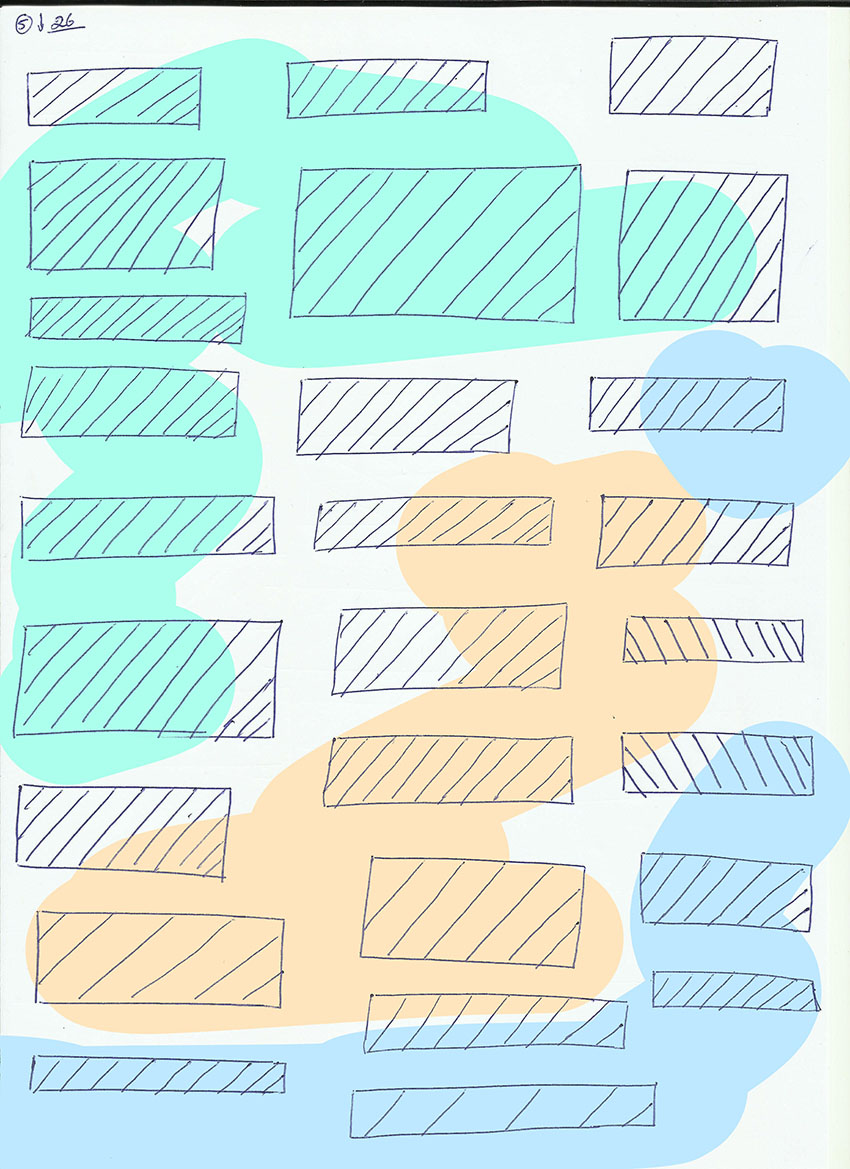frame: (287, 163, 586, 329), (10, 618, 287, 744), (31, 902, 287, 1013), (354, 852, 588, 973), (616, 165, 786, 328), (25, 155, 227, 277), (11, 778, 236, 886), (327, 599, 570, 694), (348, 1079, 663, 1144), (318, 731, 579, 809), (294, 372, 520, 459), (17, 491, 281, 562), (360, 990, 631, 1056), (18, 362, 242, 441), (594, 488, 798, 573), (635, 846, 817, 938), (604, 33, 781, 121), (617, 727, 818, 803), (312, 493, 557, 553), (283, 55, 491, 123), (585, 371, 789, 437), (25, 290, 250, 349), (26, 1050, 289, 1099), (23, 63, 207, 130), (616, 611, 808, 671), (649, 968, 825, 1016)
